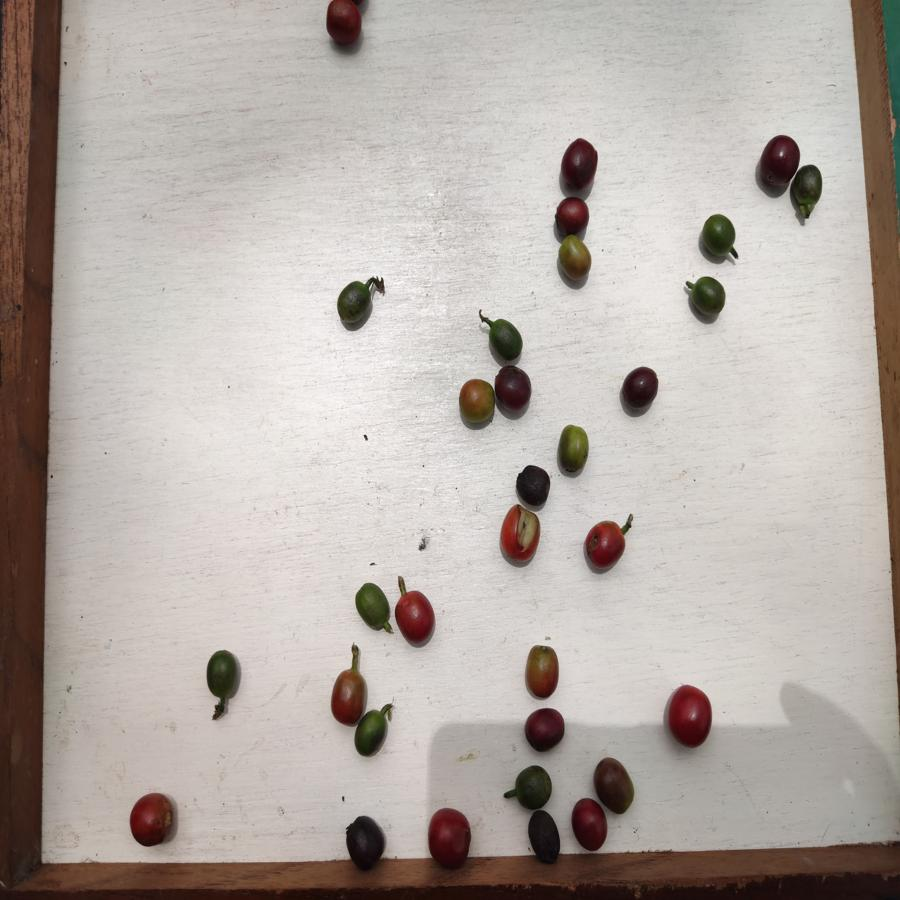Inmaduro: (698, 212, 738, 260), (205, 647, 242, 698), (486, 319, 529, 362), (511, 765, 556, 805), (354, 711, 391, 757), (355, 583, 390, 628), (335, 284, 371, 327), (693, 274, 726, 318), (795, 165, 825, 210)
Maduro: (667, 683, 717, 747), (425, 809, 476, 870), (128, 789, 178, 850), (498, 503, 542, 564), (395, 586, 435, 644), (584, 521, 626, 568), (323, 1, 367, 45)
Pinton: (593, 753, 633, 813), (328, 667, 368, 724), (553, 234, 595, 282), (555, 422, 592, 476), (526, 642, 559, 700), (458, 378, 494, 426)
Sobremaduro: (525, 810, 567, 867), (758, 135, 800, 190), (567, 798, 610, 850), (343, 816, 386, 866), (493, 366, 532, 413), (526, 708, 565, 753), (562, 138, 598, 186), (620, 365, 659, 408), (517, 460, 549, 507), (554, 198, 592, 232)
